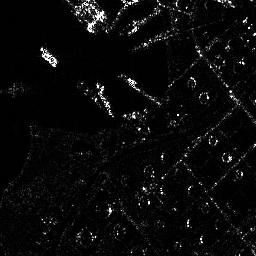ship: (39, 45, 59, 68)
